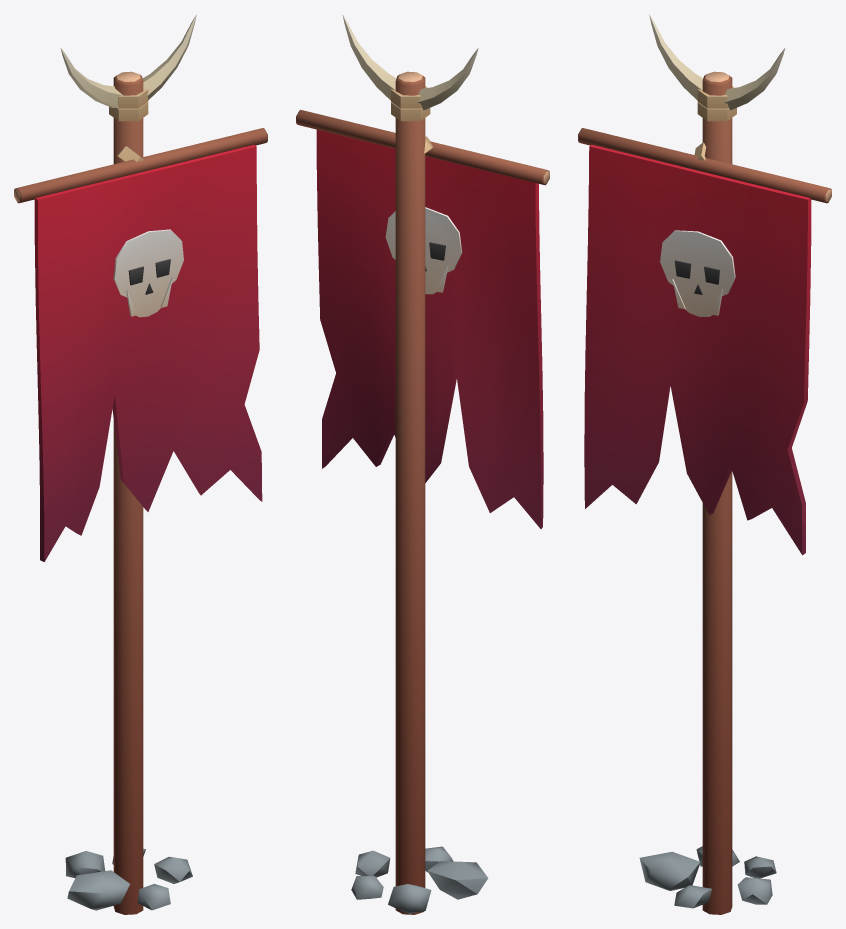
Rendered from banner_clan_A.fbx.
3 views of the same model, side by side, from view 1: azimuth 30°, elevation 25°; view 2: azimuth 150°, elevation 25°; view 3: azimuth 330°, elevation 25° (orthographic).
Parts seen in each view (by area): view 1: banner_clan_A; view 2: banner_clan_A; view 3: banner_clan_A.
Part boxes in pixels (x1,y1,x2,y2): banner_clan_A: (14,14,267,914); banner_clan_A: (296,14,549,914); banner_clan_A: (578,14,831,914).
Size of the model in its own units: 0.52 by 1.76 by 0.2307.
1 material, 1 textured.
